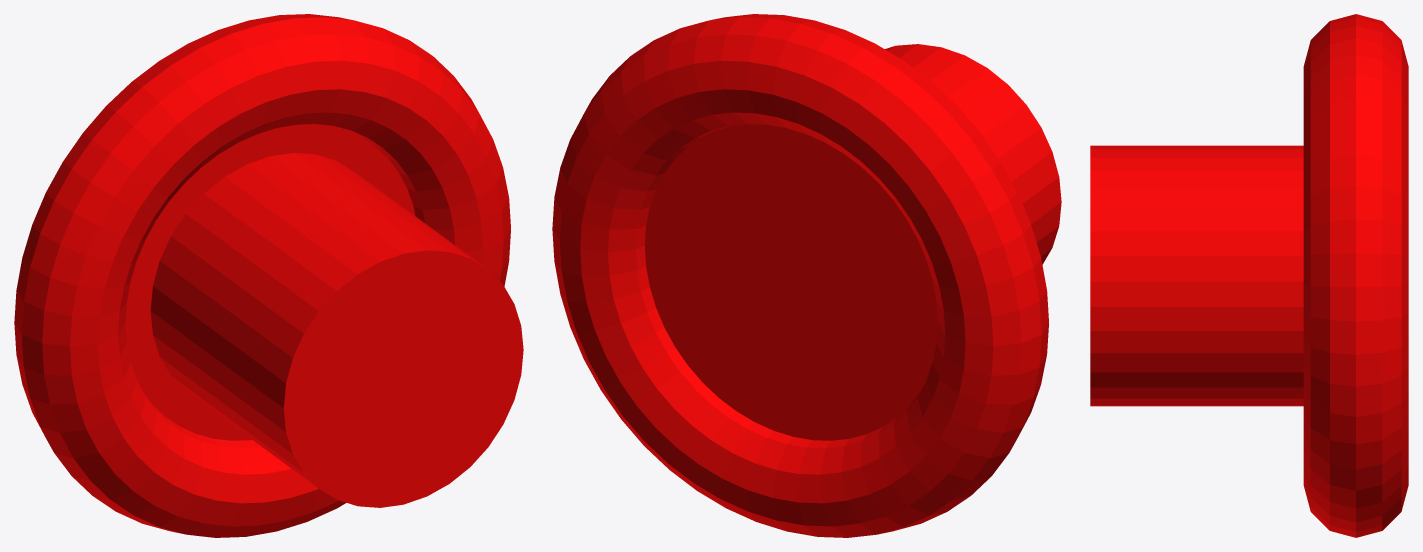
Rendered from player.obj.
3 views of the same model, side by side, from view 1: azimuth 30°, elevation 25°; view 2: azimuth 150°, elevation 25°; view 3: azimuth 270°, elevation 25° (orthographic). The views are drawn at different scales.
Visible parts, largest first — view 1: Cylinder.001; view 2: Cylinder.001; view 3: Cylinder.001.
Boxes of the visible parts, bbox=[...] form: Cylinder.001: bbox=[14, 14, 523, 537]; Cylinder.001: bbox=[552, 14, 1061, 537]; Cylinder.001: bbox=[1090, 14, 1408, 537].
Bounding box in the file's own units: 2.5 × 2.5 × 1.52.
1 material, 1 textured.
